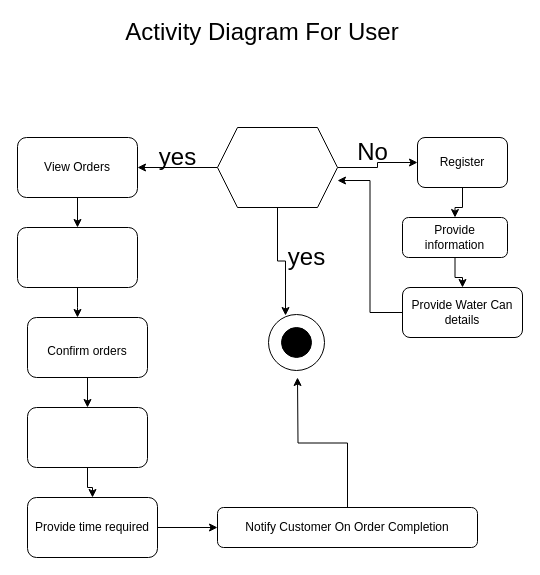
Some shapes in this 540 by 575 pixel diagram are drawn without their labels. Here are the shapes that lost their labels. From the top down, the centre of each, then its label:
the point at 277,167: Login
the point at 77,257: Check for offers
the point at 87,437: Recieve Coupons
